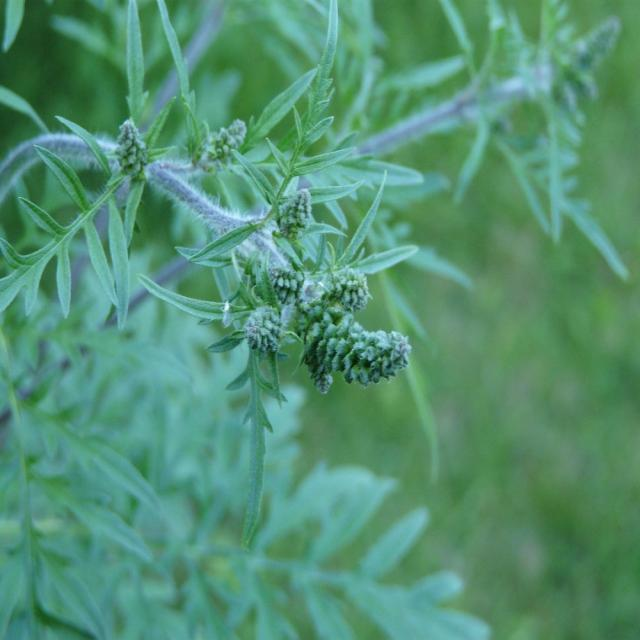ambrosia: (113, 102, 406, 435)
